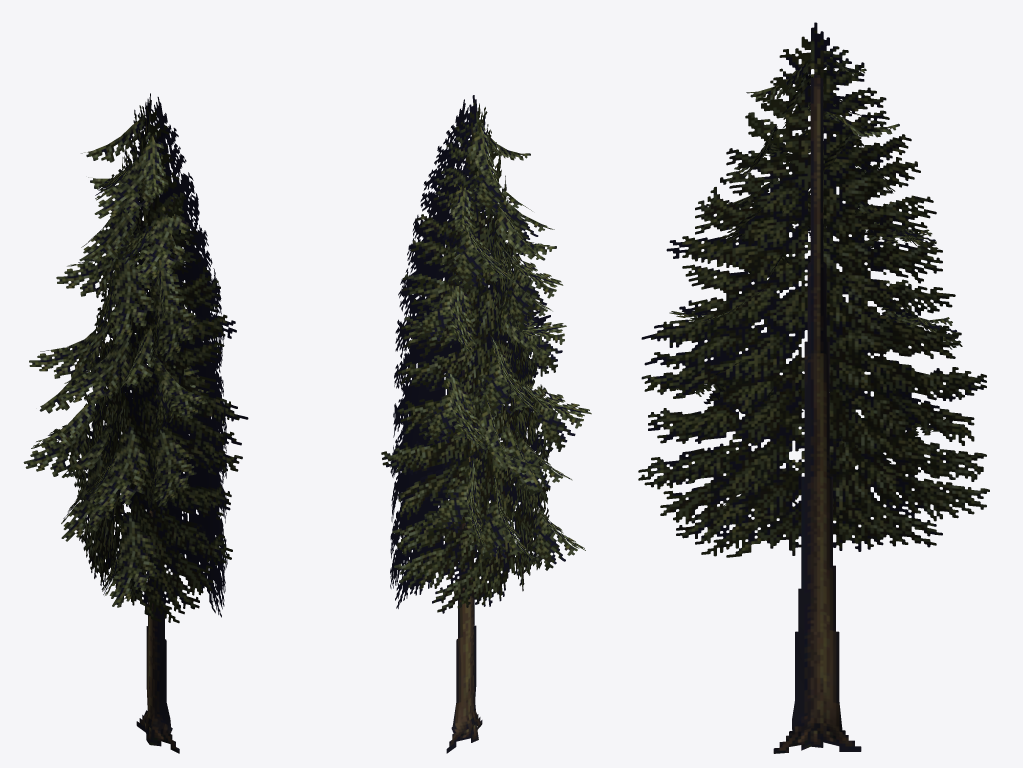
The model's file is EnvFldMD_Tree_A_Forest_LA_Painted.FBX.
3 renders of one model, left to right at view 1: azimuth 30°, elevation 25°; view 2: azimuth 150°, elevation 25°; view 3: azimuth 270°, elevation 25°, orthographic. The views are drawn at different scales.
Parts seen in each view (by area): view 1: EnvFldMD_Tree_A_Forest_LA_Painted; view 2: EnvFldMD_Tree_A_Forest_LA_Painted; view 3: EnvFldMD_Tree_A_Forest_LA_Painted.
Part boxes in pixels (box(x1,y1,x2,y2)): EnvFldMD_Tree_A_Forest_LA_Painted: box(23, 93, 248, 753); EnvFldMD_Tree_A_Forest_LA_Painted: box(381, 95, 591, 753); EnvFldMD_Tree_A_Forest_LA_Painted: box(638, 22, 989, 753).
Bounding box in the file's own units: 343 × 1274 × 600.
Materials: 2 (2 with a texture image).
